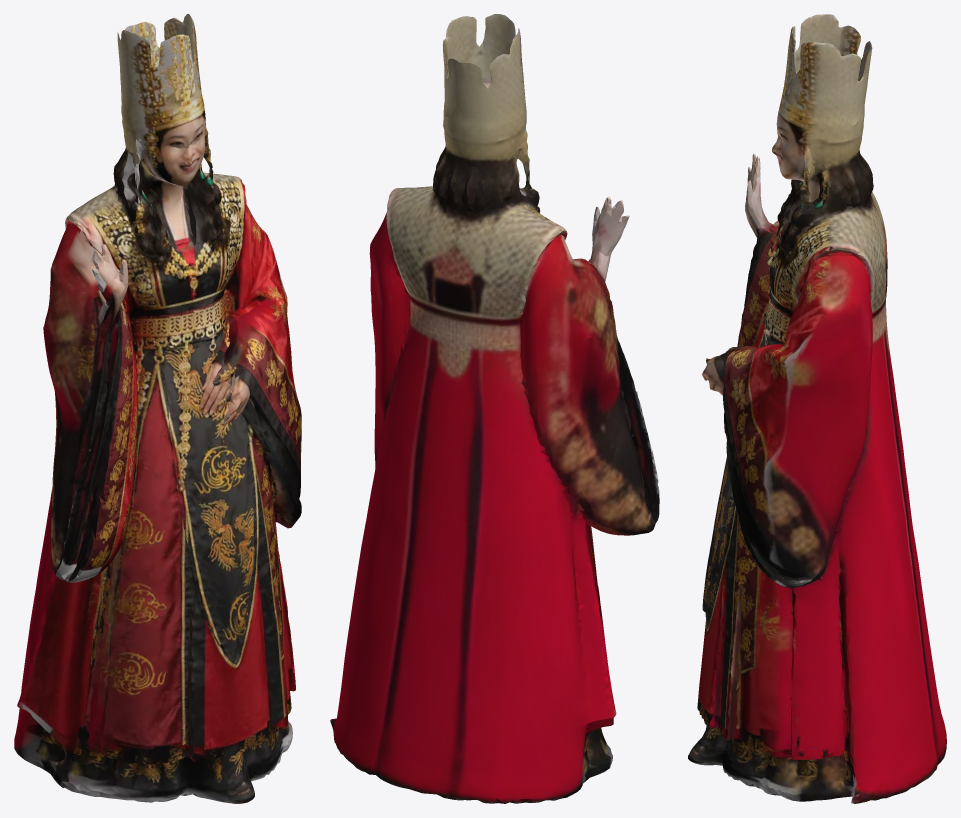
The model's file is queen.glb.
3 views of the same model, side by side, from view 1: azimuth 30°, elevation 25°; view 2: azimuth 150°, elevation 25°; view 3: azimuth 270°, elevation 25° (orthographic).
Parts seen in each view (by area): view 1: model; view 2: model; view 3: model.
Boxes of the visible parts, x1=… form: model: x1=14, y1=14, x2=301, y2=803; model: x1=330, y1=14, x2=659, y2=803; model: x1=688, y1=14, x2=946, y2=803.
Bounding box in the file's own units: 0.7749 × 1.95 × 0.6337.
1 material, 1 textured.
